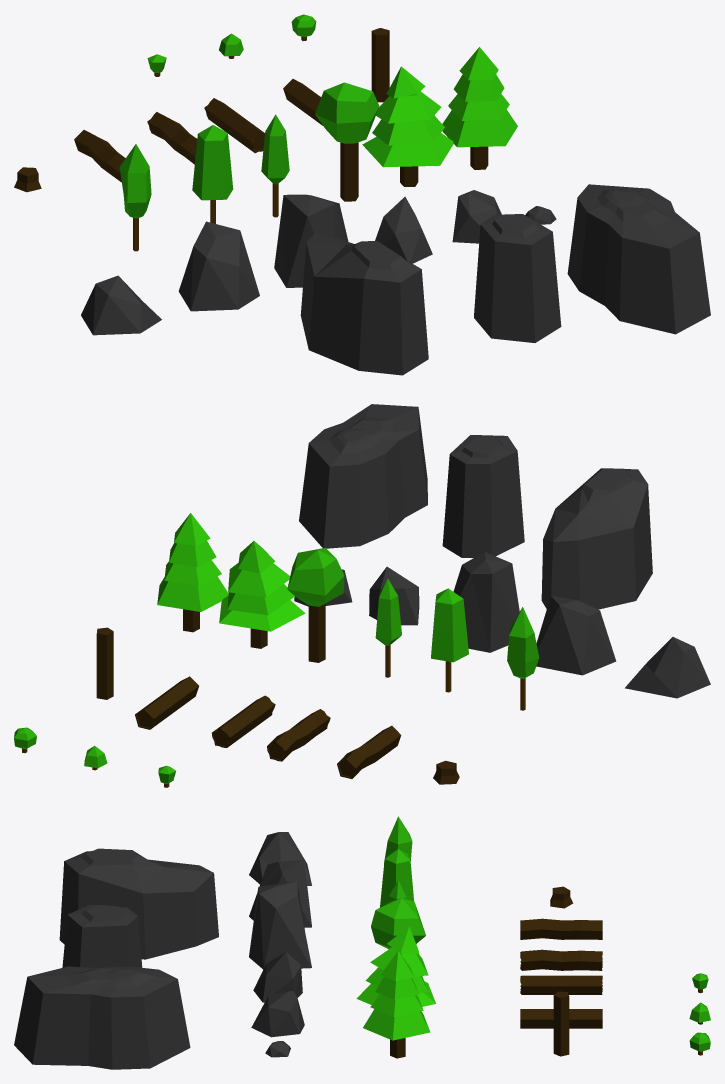
File: LowPoly_Nature1.fbx
The picture shows the model from 3 angles, top to bottom: view 1: azimuth 30°, elevation 25°; view 2: azimuth 150°, elevation 25°; view 3: azimuth 270°, elevation 25°; orthographic projection. The views are drawn at different scales.
Parts seen in each view (by area): view 1: RockLarge_1, RockLarge_3, RockLarge_2, Tree_2, RockSmall_5, Tree_1, Tree_3, RockSmall_4, RockSmall_6, Tree_5, RockSmall_3, Tree_6 (+7 smaller); view 2: RockLarge_1, RockLarge_3, RockLarge_2, Tree_2, RockSmall_4, RockSmall_5, Tree_1, Tree_3, RockSmall_6, Tree_5, Tree_6, RockSmall_3 (+6 smaller); view 3: RockLarge_1, RockLarge_3, RockLarge_2, RockSmall_4, Tree_1, Tree_2, Tree_3, RockSmall_2, TreeLog_4, TreeLog_3, TreeLog_2, RockSmall_3 (+7 smaller).
Part boxes in pixels (x1,y1,x2,y2): RockLarge_1: (567, 184, 710, 334); RockLarge_3: (300, 232, 428, 375); RockLarge_2: (474, 214, 561, 342); Tree_2: (362, 66, 453, 186); RockSmall_5: (178, 221, 259, 311); Tree_1: (442, 47, 517, 169); Tree_3: (315, 82, 379, 201); RockSmall_4: (274, 194, 348, 287); RockSmall_6: (81, 275, 161, 335); Tree_5: (192, 125, 233, 223); RockSmall_3: (375, 196, 432, 263); Tree_6: (119, 144, 151, 251); RockLarge_1: (299, 404, 427, 548); RockLarge_3: (541, 468, 652, 609); RockLarge_2: (442, 435, 524, 557); Tree_2: (219, 541, 305, 648); RockSmall_4: (453, 552, 519, 652); RockSmall_5: (536, 596, 616, 675); Tree_1: (157, 513, 228, 632); Tree_3: (287, 548, 344, 662); RockSmall_6: (625, 637, 710, 698); Tree_5: (431, 588, 468, 692); Tree_6: (507, 607, 539, 710); RockSmall_3: (369, 566, 419, 625); RockLarge_1: (14, 966, 190, 1069); RockLarge_3: (59, 848, 218, 959); RockLarge_2: (62, 904, 142, 967); RockSmall_4: (249, 881, 311, 969); Tree_1: (363, 951, 430, 1058); Tree_2: (356, 926, 435, 1006); Tree_3: (371, 898, 425, 949); RockSmall_2: (251, 990, 304, 1037); TreeLog_4: (520, 918, 602, 939); TreeLog_3: (520, 949, 602, 970); TreeLog_2: (520, 975, 602, 994); RockSmall_3: (253, 952, 302, 1002).
Size of the model in its own units: 3453 by 798 by 4808.
